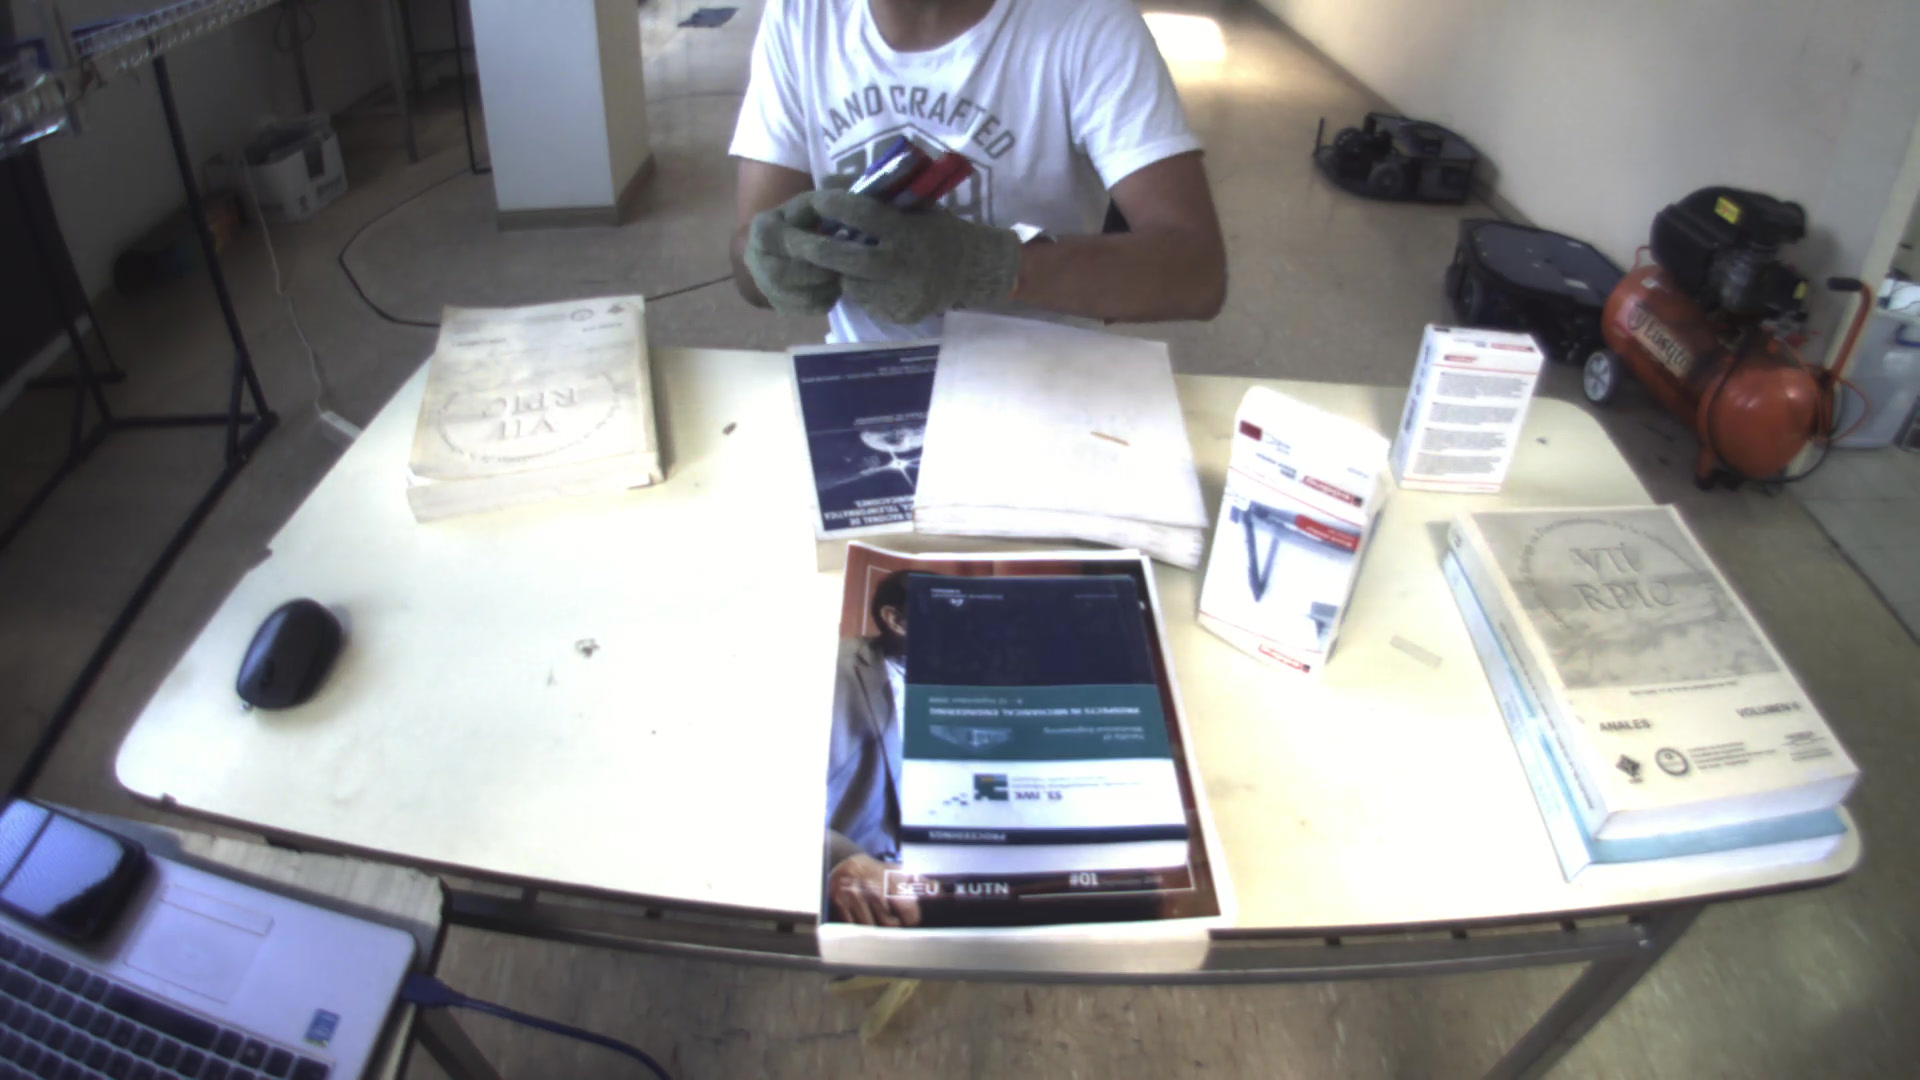hand: (779, 189, 1029, 330), (738, 193, 841, 315)
